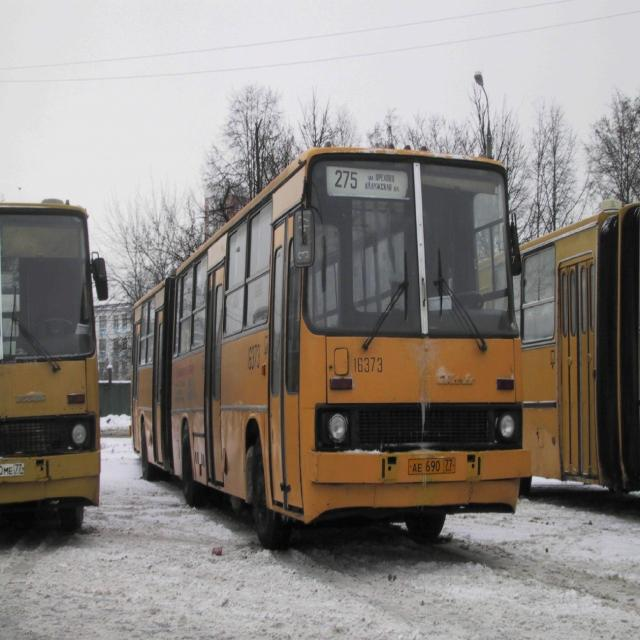number-of-bus: (335, 166, 360, 193)
